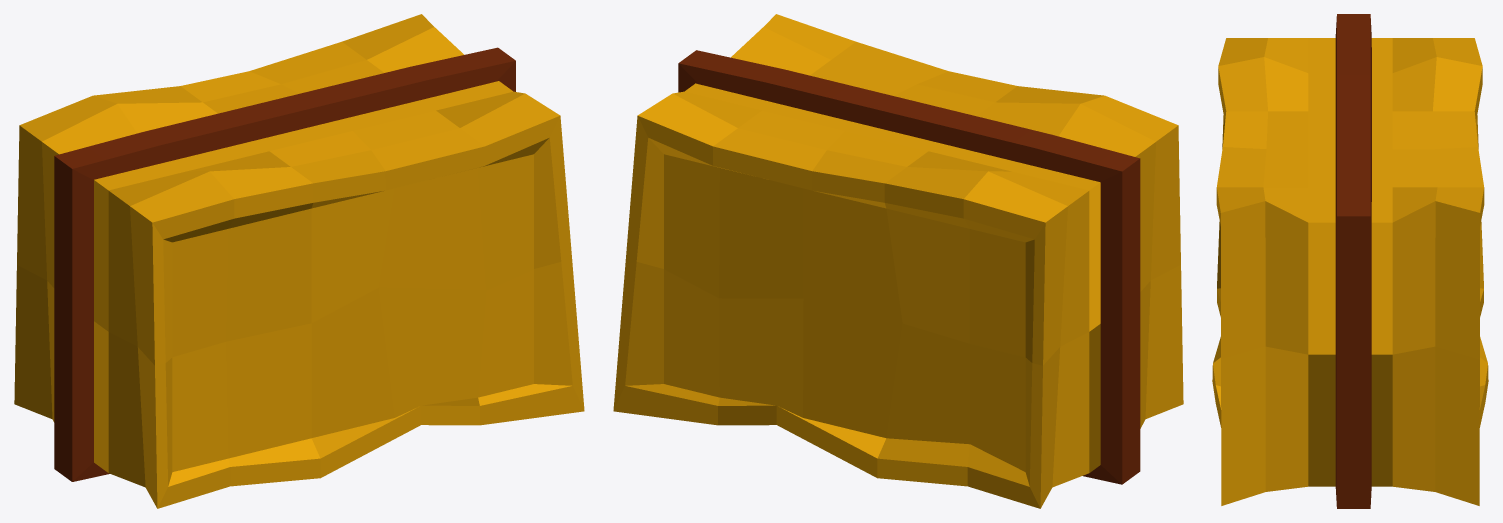
Rendered from square_hay_4.FBX.
3 views of the same model, side by side, from view 1: azimuth 30°, elevation 25°; view 2: azimuth 150°, elevation 25°; view 3: azimuth 270°, elevation 25° (orthographic). The views are drawn at different scales.
Visible parts, largest first — view 1: square_hay_4; view 2: square_hay_4; view 3: square_hay_4.
Part boxes in pixels (<box>): square_hay_4: <box>14,14,584,508</box>; square_hay_4: <box>613,14,1183,508</box>; square_hay_4: <box>1212,14,1488,508</box>.
Size of the model in its own units: 0.6331 by 0.4315 by 0.3597.
1 material, 1 textured.
